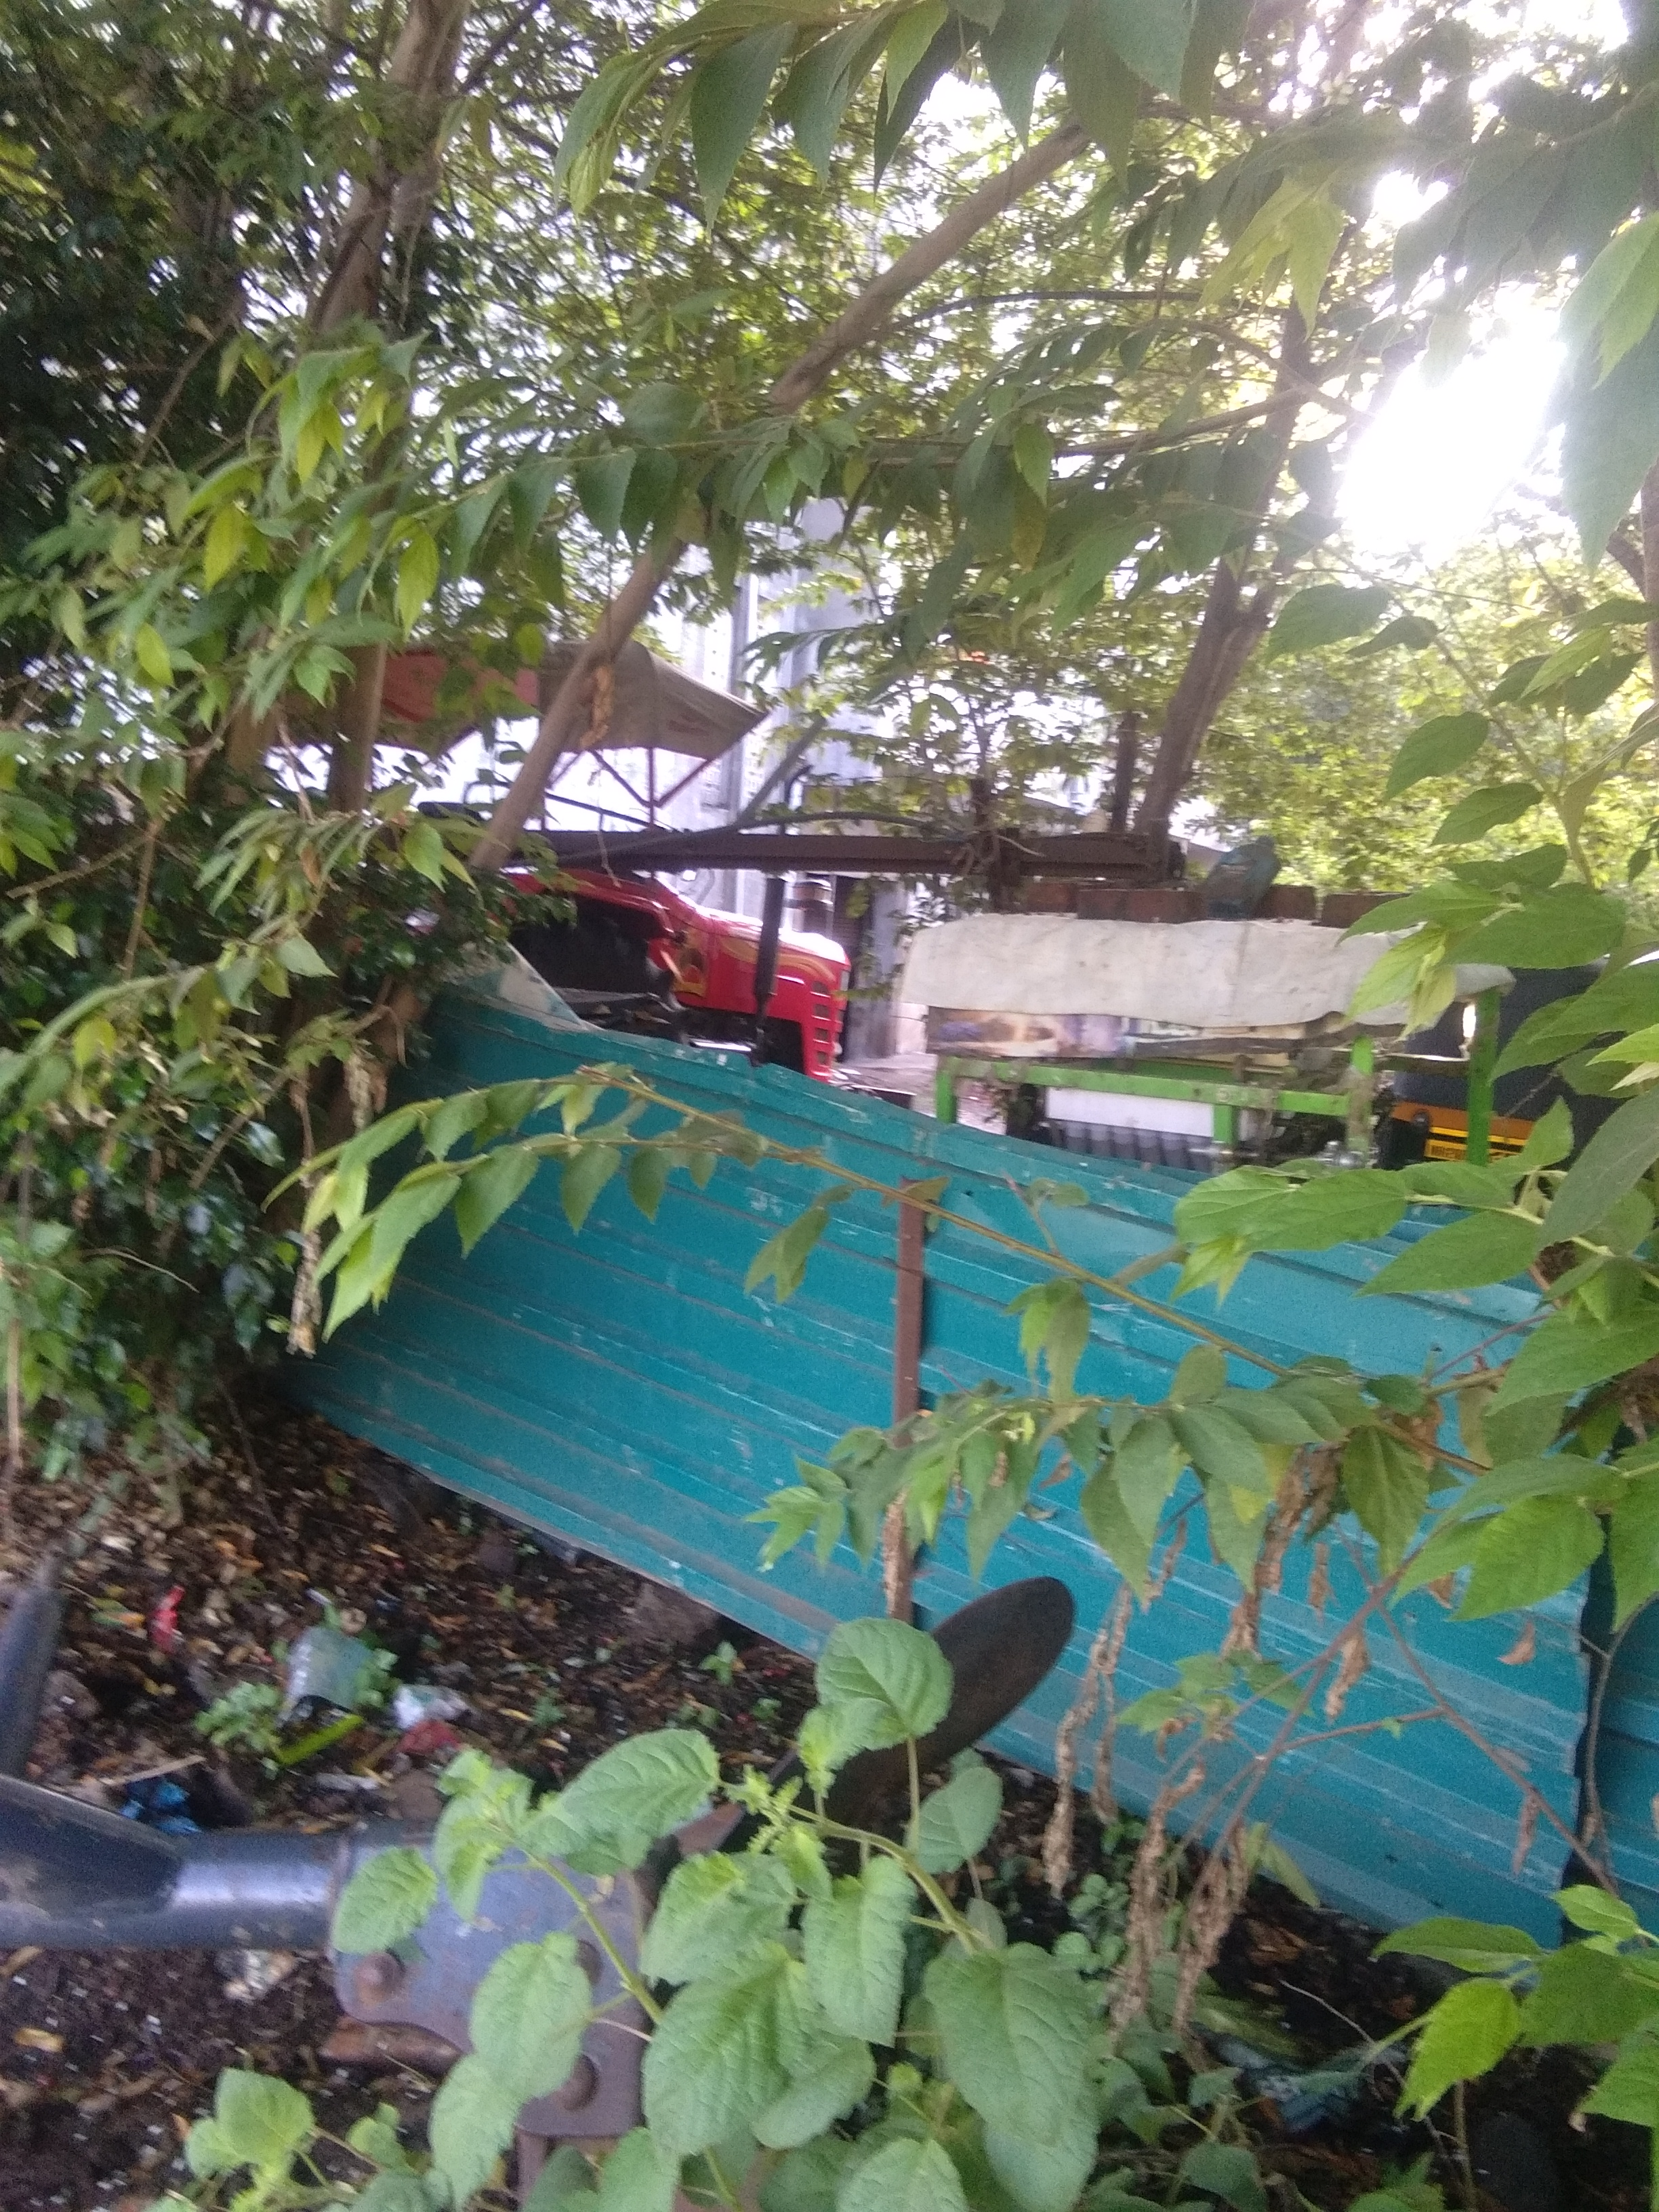tractor: (211, 632, 918, 1123)
